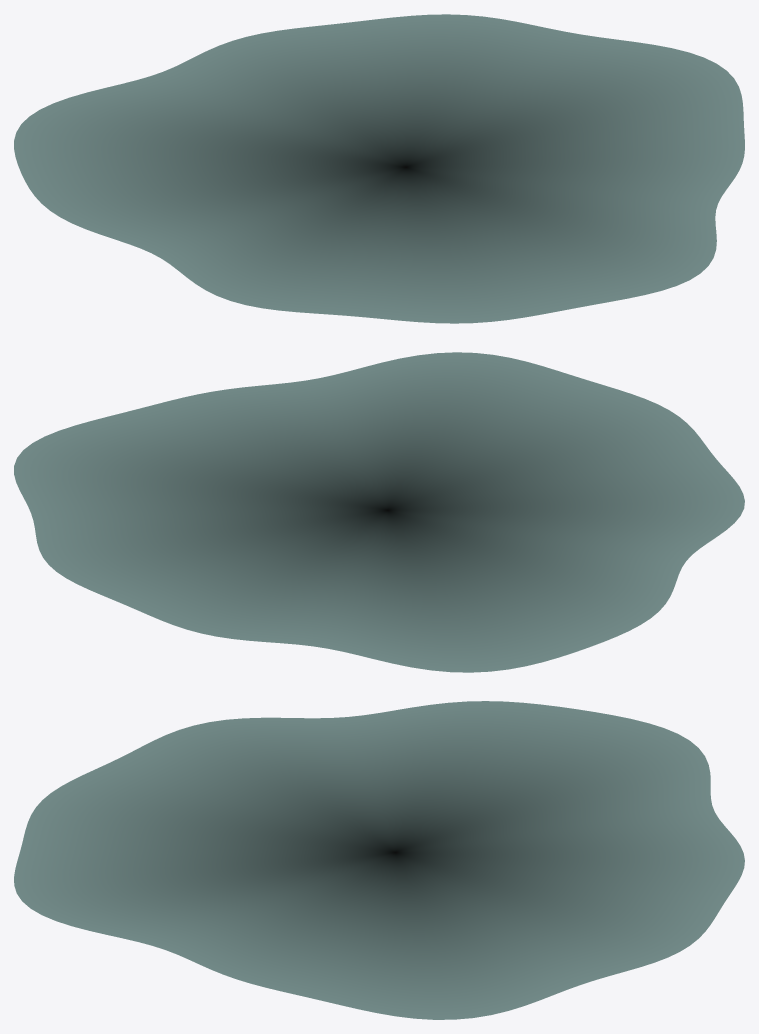
Rendered from SM_SketchPuddle.fbx.
3 views of the same model, one above another, from view 1: azimuth 30°, elevation 25°; view 2: azimuth 150°, elevation 25°; view 3: azimuth 270°, elevation 25° (orthographic).
Parts seen in each view (by area): view 1: SketchPuddle; view 2: SketchPuddle; view 3: SketchPuddle.
Boxes of the visible parts, box(x1,y1,x2,y2) form: SketchPuddle: box(14, 14, 744, 323); SketchPuddle: box(14, 352, 744, 672); SketchPuddle: box(14, 701, 744, 1019).
Bounding box in the file's own units: 95.84 × 0.1 × 92.86.
